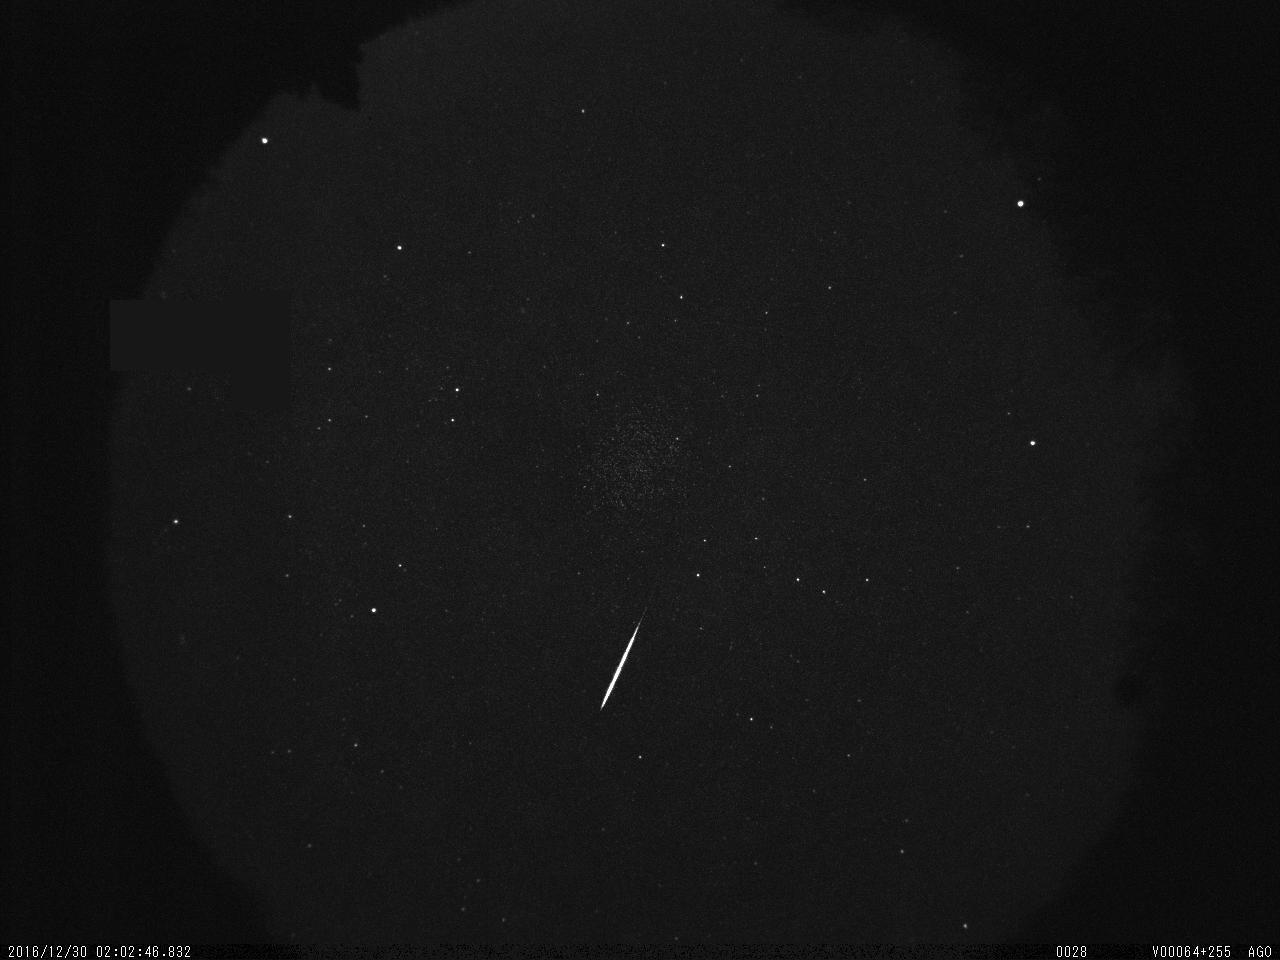meteor: (597, 622, 648, 712)
